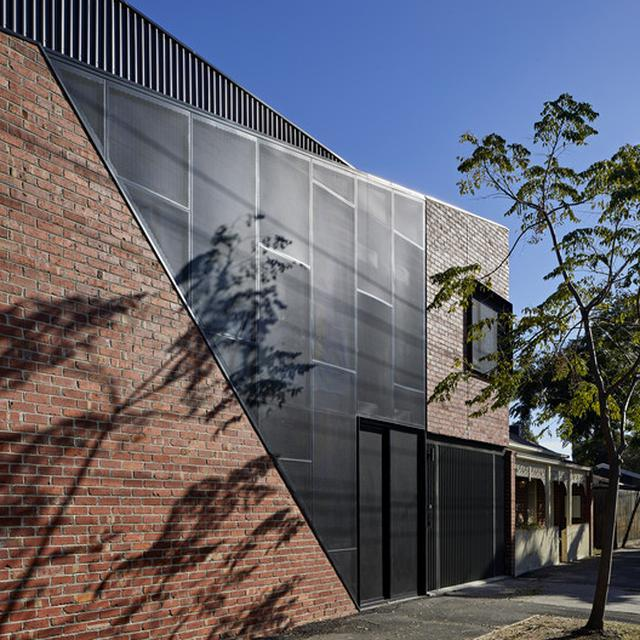building: (2, 1, 516, 640), (505, 432, 600, 576)
